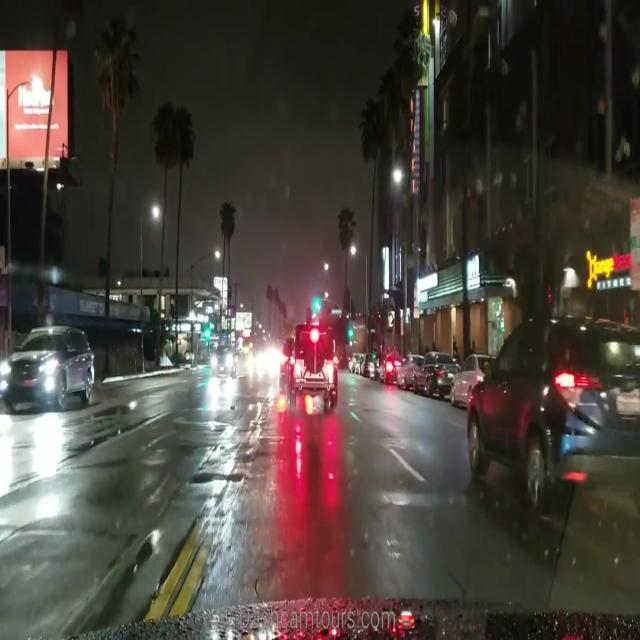Car: (466, 319, 638, 507), (0, 326, 95, 408), (409, 352, 456, 397)
